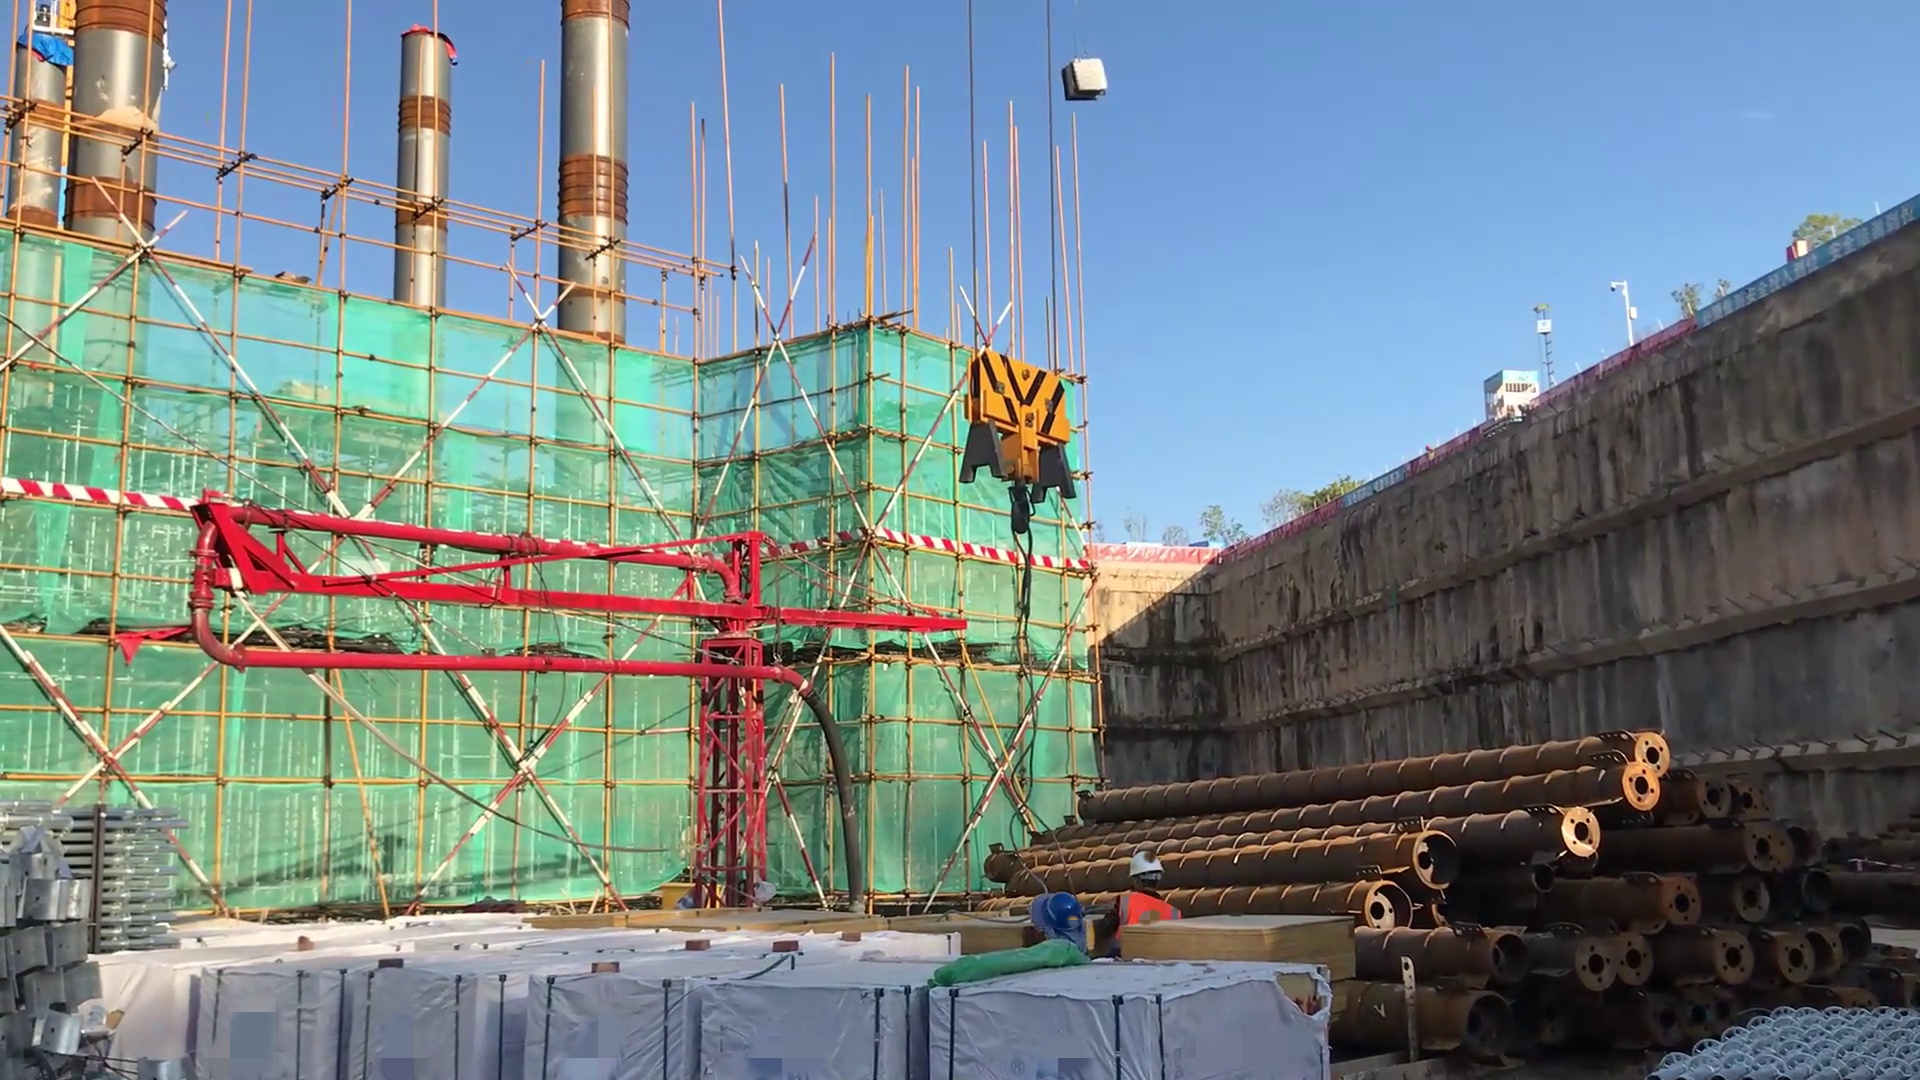board: (1114, 912, 1368, 982)
ebox: (658, 881, 733, 912)
helmet: (1024, 891, 1095, 947), (1118, 846, 1170, 894)
hook: (958, 323, 1091, 542)
person: (1091, 832, 1195, 980)
scaffold: (29, 788, 205, 955)
slogan: (1693, 171, 1920, 327), (1336, 459, 1429, 514)
vest: (1101, 886, 1188, 951)
wood: (527, 905, 875, 934)
